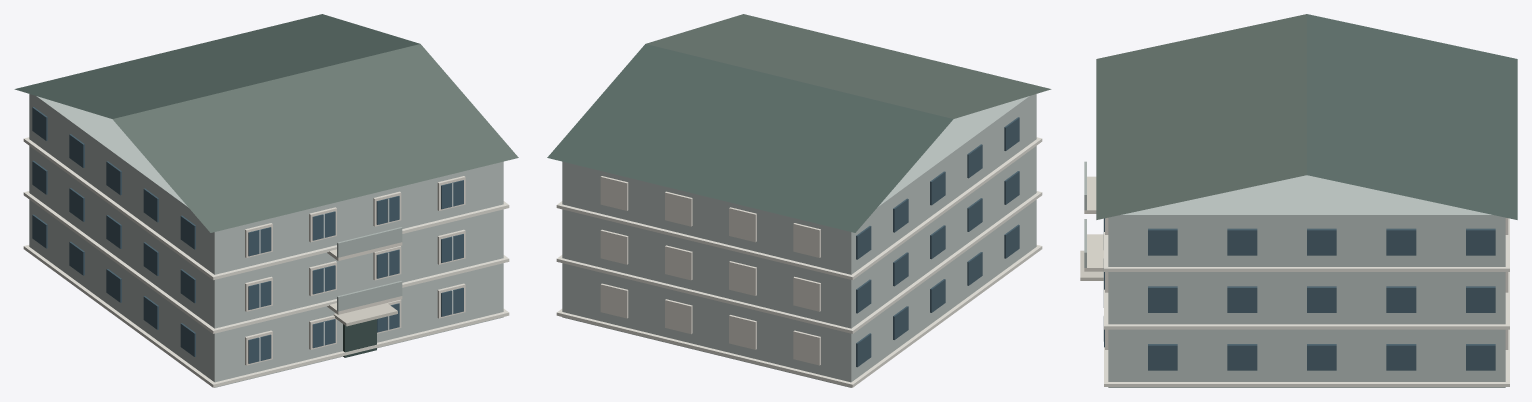
3 views of the same model, side by side, from view 1: azimuth 30°, elevation 25°; view 2: azimuth 150°, elevation 25°; view 3: azimuth 270°, elevation 25° (orthographic). The views are drawn at different scales.
Size of the model in its own units: 19.2 by 12.1 by 22.
